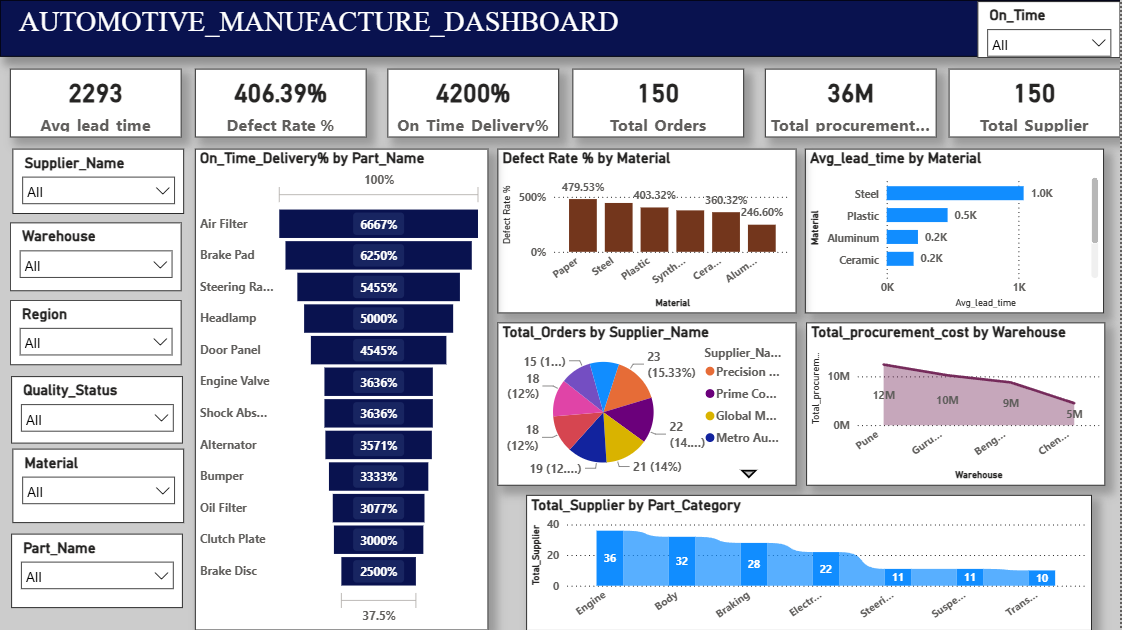

Layout of this report page (visuals, bound fields, positions):
{"tool":"powerbi","page":{"name":"Page 1","canvas":[1280,720],"ordinal":0},"visuals":[{"type":"textbox","box":[0,0,1280.3,64.5],"z":0},{"type":"card","fields":{"Values":["Measure.Avg_lead_time"]},"box":[11,78.2,196.2,78.2],"z":1000},{"type":"card","fields":{"Values":["Measure.Defect Rate %"]},"box":[222.3,78.2,196.2,78.2],"z":2000},{"type":"card","fields":{"Values":["Measure.On_Time_Delivery%"]},"box":[443.2,78.2,196.2,78.2],"z":3000},{"type":"card","fields":{"Values":["Measure.Total_Orders"]},"box":[654.5,78.2,196.2,78.2],"z":4000},{"type":"card","fields":{"Values":["Measure.Total_procurement_cost"]},"box":[874.3,78.6,195.7,78.6],"z":5000},{"type":"card","fields":{"Values":["Measure.Total_Supplier"]},"box":[1084.1,78.2,196.2,78.2],"z":6000},{"type":"barChart","fields":{"Y":["Measure.Avg_lead_time"],"Category":["automotive_manufacture.Material"]},"box":[919.4,170.2,341.7,188],"z":7000},{"type":"clusteredColumnChart","fields":{"Category":["automotive_manufacture.Material"],"Y":["Measure.Defect Rate %"]},"box":[568.1,170.2,341.7,188],"z":8000},{"type":"funnel","fields":{"Category":["automotive_manufacture.Part_Name"],"Y":["Measure.On_Time_Delivery%"]},"box":[222.3,170.2,334.8,550.3],"z":9000},{"type":"pieChart","fields":{"Y":["Measure.Total_Orders"],"Category":["automotive_manufacture.Supplier_Name"]},"box":[568.1,369.1,341.7,186.6],"z":10000},{"type":"stackedAreaChart","fields":{"Category":["automotive_manufacture.Warehouse"],"Y":["Measure.Total_procurement_cost"]},"box":[920.8,369.1,341.7,186.6],"z":11000},{"type":"ribbonChart","fields":{"Category":["automotive_manufacture.Part_Category"],"Y":["Measure.Total_Supplier"]},"box":[601,565.4,646.3,155.1],"z":12000},{"type":"slicer","fields":{"Values":["automotive_manufacture.Supplier_Name"]},"box":[13.7,170.2,196.2,74.1],"z":13000},{"type":"slicer","fields":{"Values":["automotive_manufacture.Warehouse"]},"box":[11,253.9,196.2,78.2],"z":14000},{"type":"slicer","fields":{"Values":["automotive_manufacture.Region"]},"box":[11,343.1,196.2,74.1],"z":15000},{"type":"slicer","fields":{"Values":["automotive_manufacture.Quality_Status"]},"box":[12.3,429.5,196.2,76.8],"z":16000},{"type":"slicer","fields":{"Values":["automotive_manufacture.Material"]},"box":[13.7,513.2,196.2,85.1],"z":17000},{"type":"slicer","fields":{"Values":["automotive_manufacture.Part_Name"]},"box":[12.3,610.6,196.2,85.1],"z":18000},{"type":"slicer","fields":{"Values":["automotive_manufacture.On_Time"]},"box":[1117,1.4,163.3,64.5],"z":19000}]}

Visuals, with their boxes in screenshot pixels (x1, y1, x2, y2), scaled from the page's 1280x720 canvas onto the 1122x630 screenshot:
textbox: 0/0/1121/56
card - Measure.Avg_lead_time: 10/68/182/137
card - Measure.Defect Rate %: 195/68/367/137
card - Measure.On_Time_Delivery%: 388/68/560/137
card - Measure.Total_Orders: 574/68/746/137
card - Measure.Total_procurement_cost: 766/69/938/138
card - Measure.Total_Supplier: 950/68/1121/137
barChart - Measure.Avg_lead_time x automotive_manufacture.Material: 806/149/1105/313
clusteredColumnChart - automotive_manufacture.Material x Measure.Defect Rate %: 498/149/797/313
funnel - automotive_manufacture.Part_Name x Measure.On_Time_Delivery%: 195/149/488/629
pieChart - Measure.Total_Orders x automotive_manufacture.Supplier_Name: 498/323/797/486
stackedAreaChart - automotive_manufacture.Warehouse x Measure.Total_procurement_cost: 807/323/1107/486
ribbonChart - automotive_manufacture.Part_Category x Measure.Total_Supplier: 527/495/1093/629
slicer - automotive_manufacture.Supplier_Name: 12/149/184/214
slicer - automotive_manufacture.Warehouse: 10/222/182/291
slicer - automotive_manufacture.Region: 10/300/182/365
slicer - automotive_manufacture.Quality_Status: 11/376/183/443
slicer - automotive_manufacture.Material: 12/449/184/524
slicer - automotive_manufacture.Part_Name: 11/534/183/609
slicer - automotive_manufacture.On_Time: 979/1/1121/58
